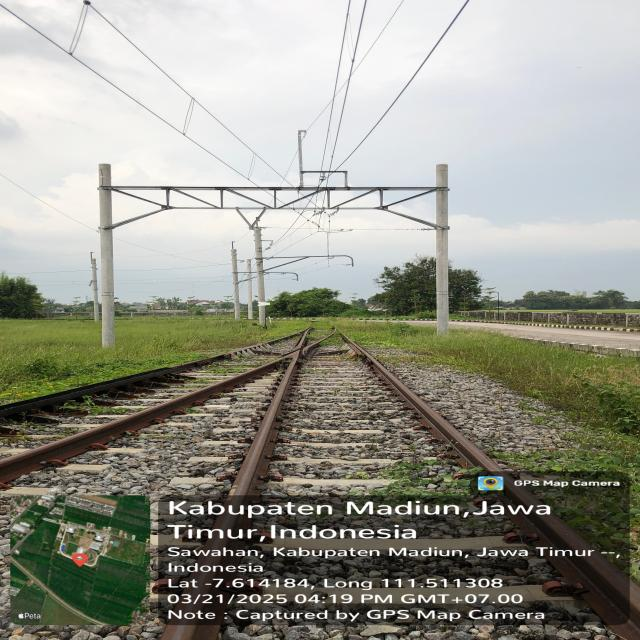rail-detection: (0, 360, 280, 481), (0, 336, 293, 417), (343, 335, 500, 471), (230, 350, 300, 496)
